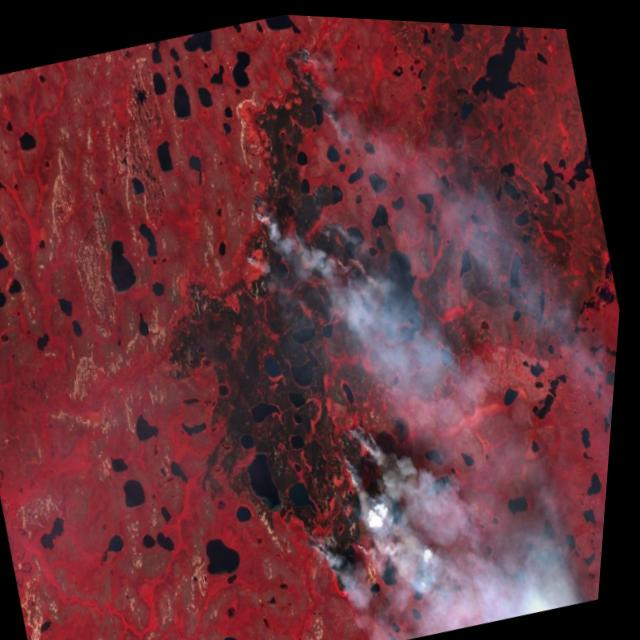fire: (185, 19, 389, 286), (274, 403, 431, 601)
